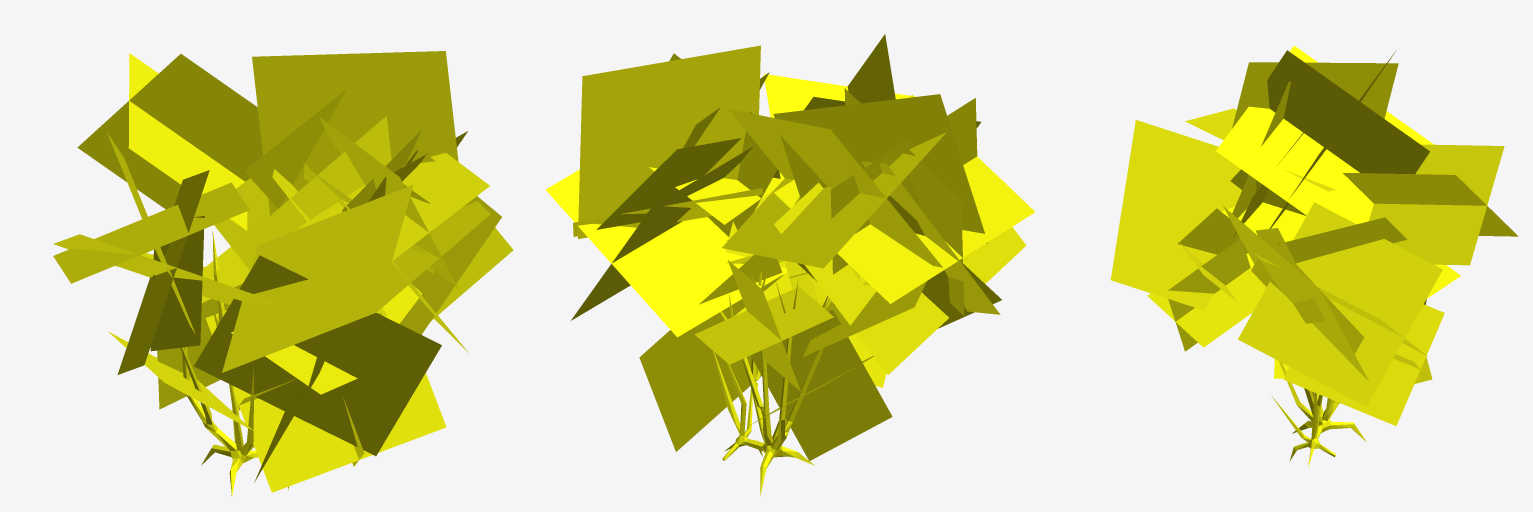
File: bush_currant.glb
3 views of the same model, side by side, from view 1: azimuth 30°, elevation 25°; view 2: azimuth 150°, elevation 25°; view 3: azimuth 270°, elevation 25° (orthographic). The views are drawn at different scales.
Parts seen in each view (by area): view 1: Currant_LOD0, SM_Currant_LOD0; view 2: Currant_LOD0, SM_Currant_LOD0; view 3: Currant_LOD0, SM_Currant_LOD0.
Part boxes in pixels (<box>): Currant_LOD0: <box>53,51,513,492</box>; SM_Currant_LOD0: <box>180,231,288,496</box>; Currant_LOD0: <box>545,34,1034,460</box>; SM_Currant_LOD0: <box>707,259,831,496</box>; Currant_LOD0: <box>1110,45,1518,425</box>; SM_Currant_LOD0: <box>1271,361,1366,467</box>.
Bounding box in the file's own units: 0.7993 × 0.7363 × 0.7953.
